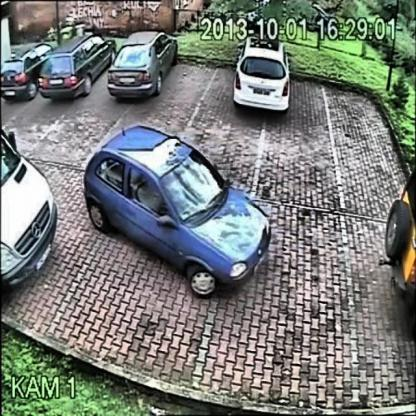free: (272, 238, 350, 401), (95, 242, 185, 370), (334, 82, 386, 151)
occupied: (0, 122, 62, 300), (234, 36, 298, 119), (108, 26, 169, 101), (50, 29, 100, 99), (2, 41, 42, 100)
